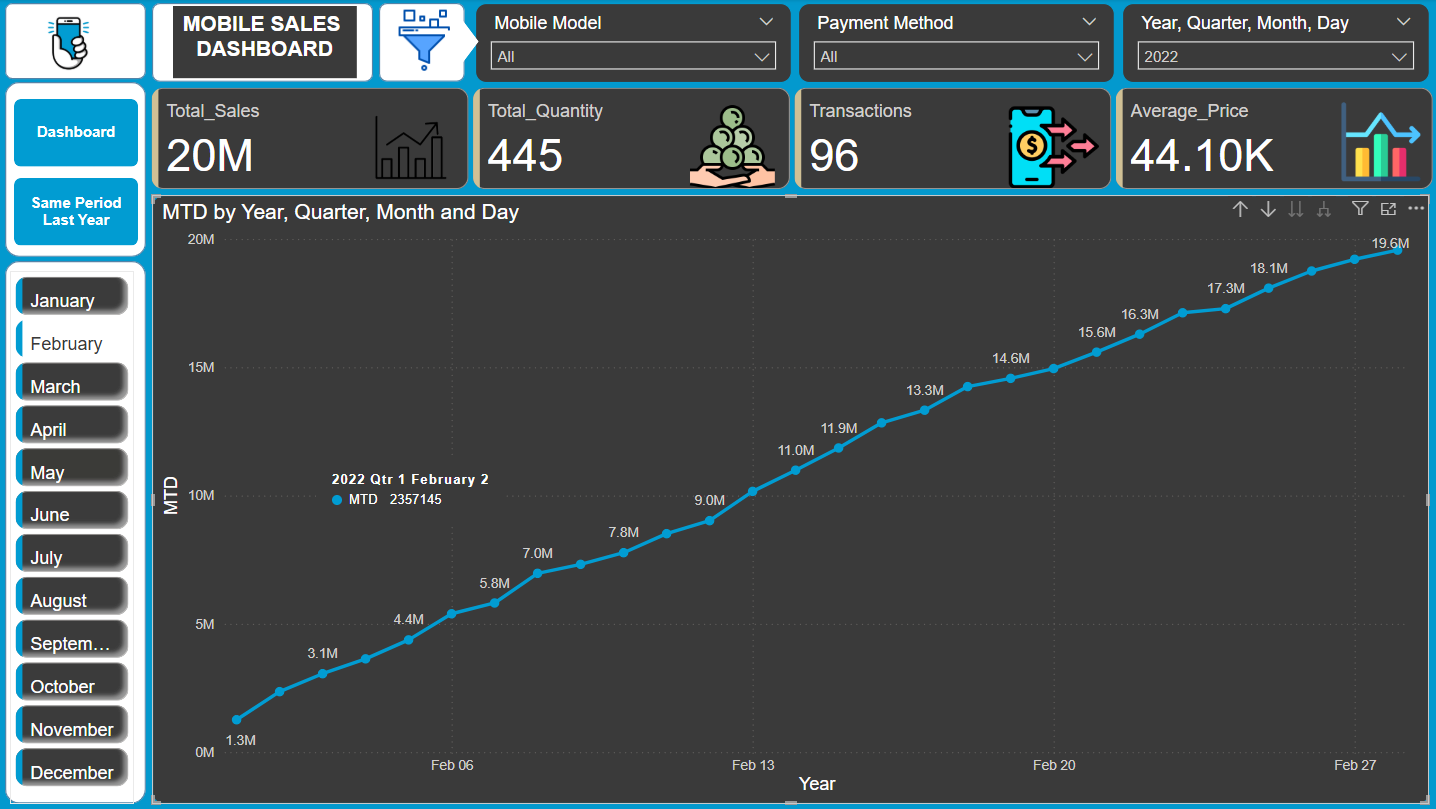

This screenshot's page, from the dashboard's own definition file:
{"tool":"powerbi","page":{"name":"MTD Report","canvas":[1280,720],"ordinal":1},"visuals":[{"type":"shape","box":[7.5,3.8,125,67.5],"z":0},{"type":"image","box":[23.8,3.8,78.8,71.2],"z":1000},{"type":"shape","box":[7.5,73.8,125,155],"z":2000},{"type":"cardVisual","fields":{"Data":["Sales_Data.Total_Sales","Sales_Data.Total_Quantity","Sales_Data.Transactions","Sales_Data.Average_Price"]},"box":[132.5,73.8,1147.5,100],"z":3000},{"type":"slicer","fields":{"Values":["Sales_Data.Mobile Model"]},"box":[423.8,3.8,281.2,71.2],"z":4000},{"type":"slicer","fields":{"Values":["Sales_Data.Payment Method"]},"box":[710,3.8,281.2,71.2],"z":5000},{"type":"slicer","fields":{"Values":["Custom_Calendar.Date.Variation.Date Hierarchy.Year","Custom_Calendar.Date.Variation.Date Hierarchy.Quarter","Custom_Calendar.Date.Variation.Date Hierarchy.Month","Custom_Calendar.Date.Variation.Date Hierarchy.Day"]},"box":[997.5,3.8,272.5,71.2],"z":6000},{"type":"shape","box":[338.8,3.8,76.2,70],"z":7000},{"type":"image","box":[337.5,3.8,81.2,66.2],"z":8000},{"type":"shape","box":[397.5,17.5,30,40],"z":9000},{"type":"shape","box":[137.5,3.8,196.2,70],"z":10000},{"type":"textbox","box":[156.2,6.2,162.5,63.8],"z":11000},{"type":"lineChart","fields":{"Y":["Sales_Data.MTD"],"Category":["Custom_Calendar.Date.Variation.Date Hierarchy.Year","Custom_Calendar.Date.Variation.Date Hierarchy.Quarter","Custom_Calendar.Date.Variation.Date Hierarchy.Month","Custom_Calendar.Date.Variation.Date Hierarchy.Day"]},"box":[137.5,173.8,1132.5,540],"z":12000},{"type":"shape","box":[7.5,232.5,125,481.2],"z":13000},{"type":"advancedSlicerVisual","fields":{"Values":["Custom_Calendar.Date.Variation.Date Hierarchy.Month"]},"box":[11.2,241.2,110,472.5],"z":14000},{"type":"pageNavigator","box":[15,88.8,110,130],"z":15000}]}

Visuals, with their boxes in screenshot pixels (x1, y1, x2, y2), scaled from the page's 1280x720 canvas onto the 1436x809 screenshot:
shape: 8 4 149 80
image: 27 4 115 84
shape: 8 83 149 257
cardVisual - Sales_Data.Total_Sales x Sales_Data.Total_Quantity: 149 83 1435 195
slicer - Sales_Data.Mobile Model: 475 4 791 84
slicer - Sales_Data.Payment Method: 797 4 1112 84
slicer - Custom_Calendar.Date.Variation.Date Hierarchy.Year x Custom_Calendar.Date.Variation.Date Hierarchy.Quarter: 1119 4 1425 84
shape: 380 4 466 83
image: 379 4 470 79
shape: 446 20 480 65
shape: 154 4 374 83
textbox: 175 7 358 79
lineChart - Sales_Data.MTD x Custom_Calendar.Date.Variation.Date Hierarchy.Year: 154 195 1425 802
shape: 8 261 149 802
advancedSlicerVisual - Custom_Calendar.Date.Variation.Date Hierarchy.Month: 13 271 136 802
pageNavigator: 17 100 140 246
